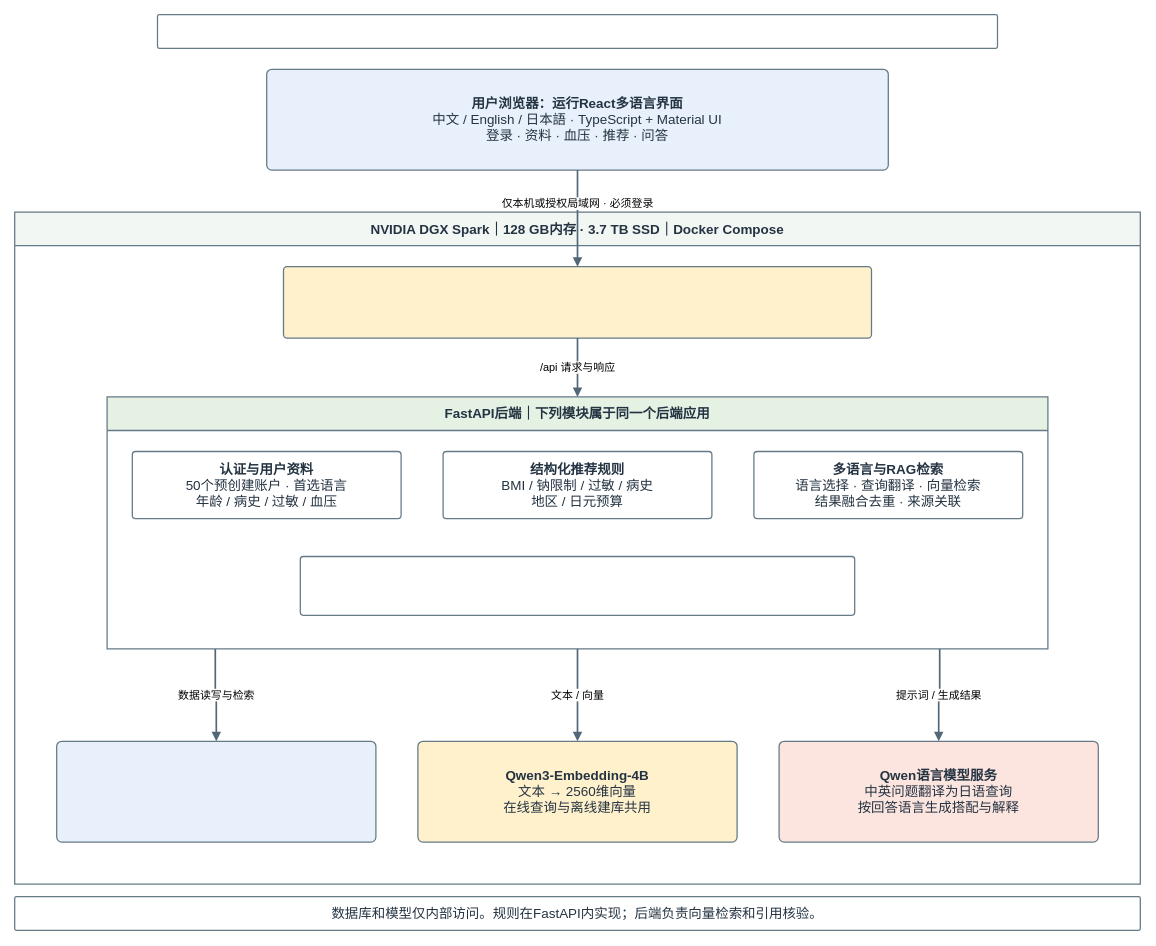
The diagram is 1156 pixels wide and 946 high, and some of its shapes have lost their labels. The centre of each missing label's shape, as x and y in pixels:
"Caddy / Nginx：本地统一入口 提供Vite构建的网页文件 · 转发 /api 请求" goes at point (577, 302).
"PostgreSQL + pgvector 用户 / 食物 / 日元价格 / 推荐历史 日语片段 / 来源页码 / halfvec(2560) HNSW余弦索引" goes at point (216, 791).
"流程编排、模型调用与输出检查 候选食物 + 日语依据 → 生成 → 校验 → 保存推荐" goes at point (577, 585).
"高血压个性化饮食推荐系统｜01 部署架构" goes at point (577, 31).
